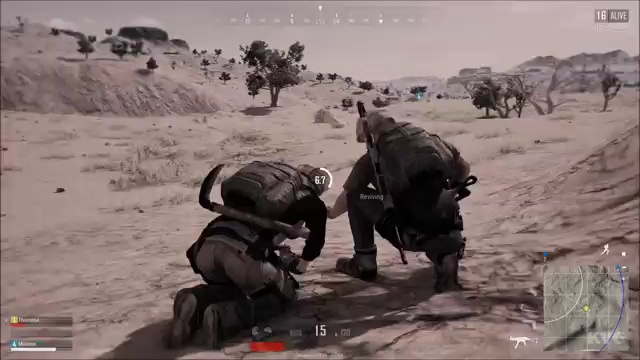Player: (178, 121, 332, 287), (346, 98, 477, 277)
